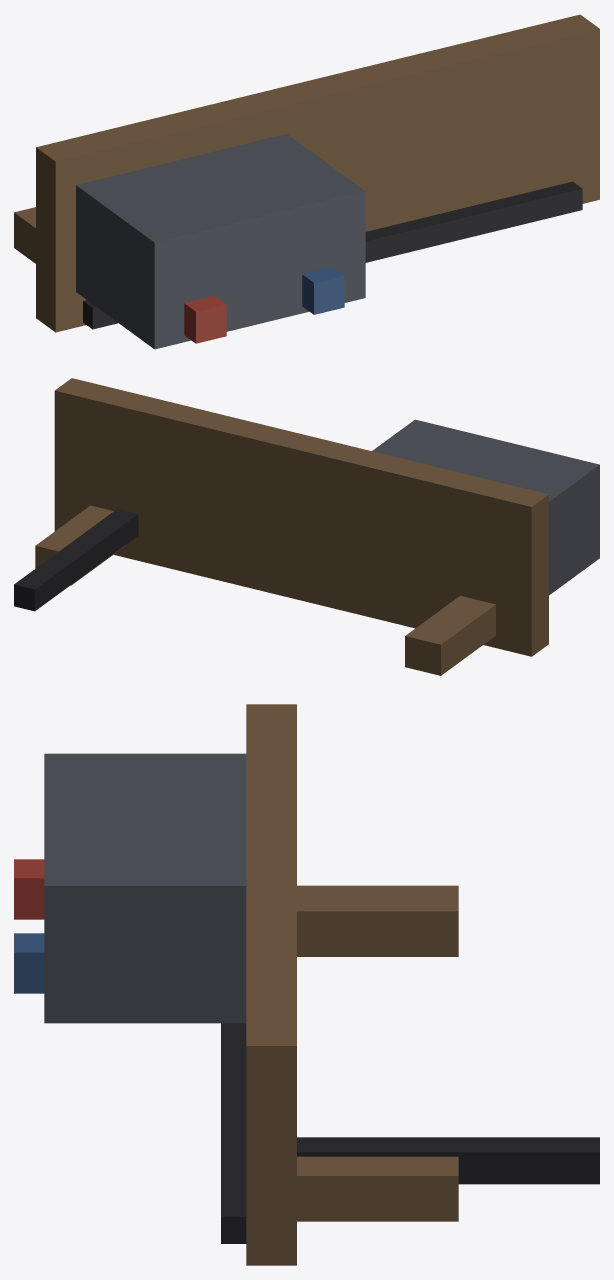
File: bank_wall_makeshift_c1_S.obj
3 renders of one model, top to bottom at view 1: azimuth 30°, elevation 25°; view 2: azimuth 150°, elevation 25°; view 3: azimuth 270°, elevation 25°, orthographic. The views are drawn at different scales.
Parts seen in each view (by area): view 1: bank_wall_makeshift_c1_S; view 2: bank_wall_makeshift_c1_S; view 3: bank_wall_makeshift_c1_S.
Part boxes in pixels (x1,y1,x2,y2): bank_wall_makeshift_c1_S: (14,14,599,349); bank_wall_makeshift_c1_S: (14,378,599,675); bank_wall_makeshift_c1_S: (14,704,599,1265).
Bounding box in the file's own units: 0.8 × 0.24 × 0.58.
Materials: 1 (1 with a texture image).
